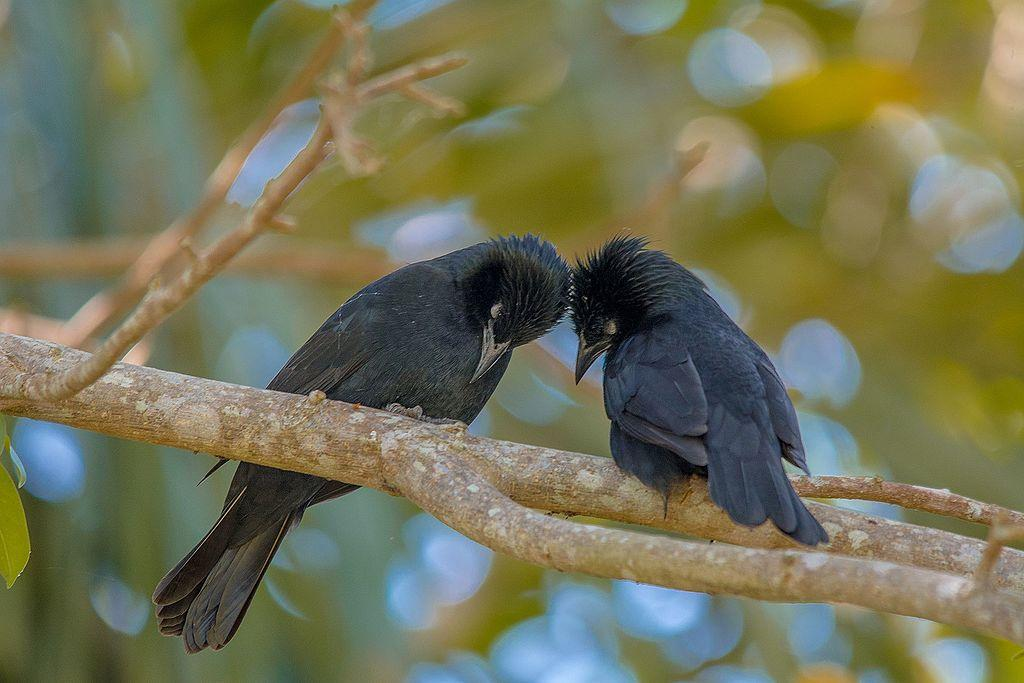grauna: (147, 232, 571, 665), (572, 214, 840, 549)
